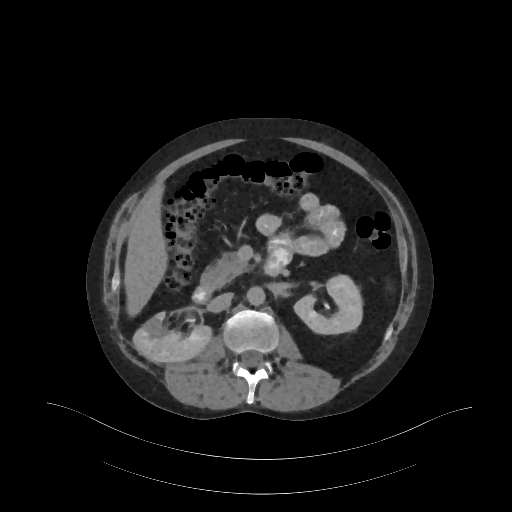Lesion: (136, 319, 170, 338)
